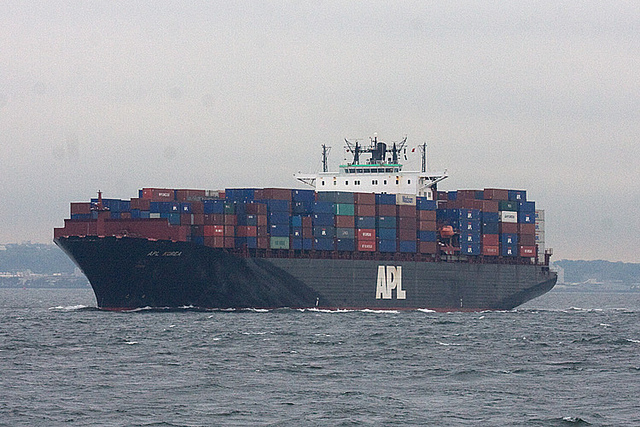container_ship: (53, 136, 559, 312)
